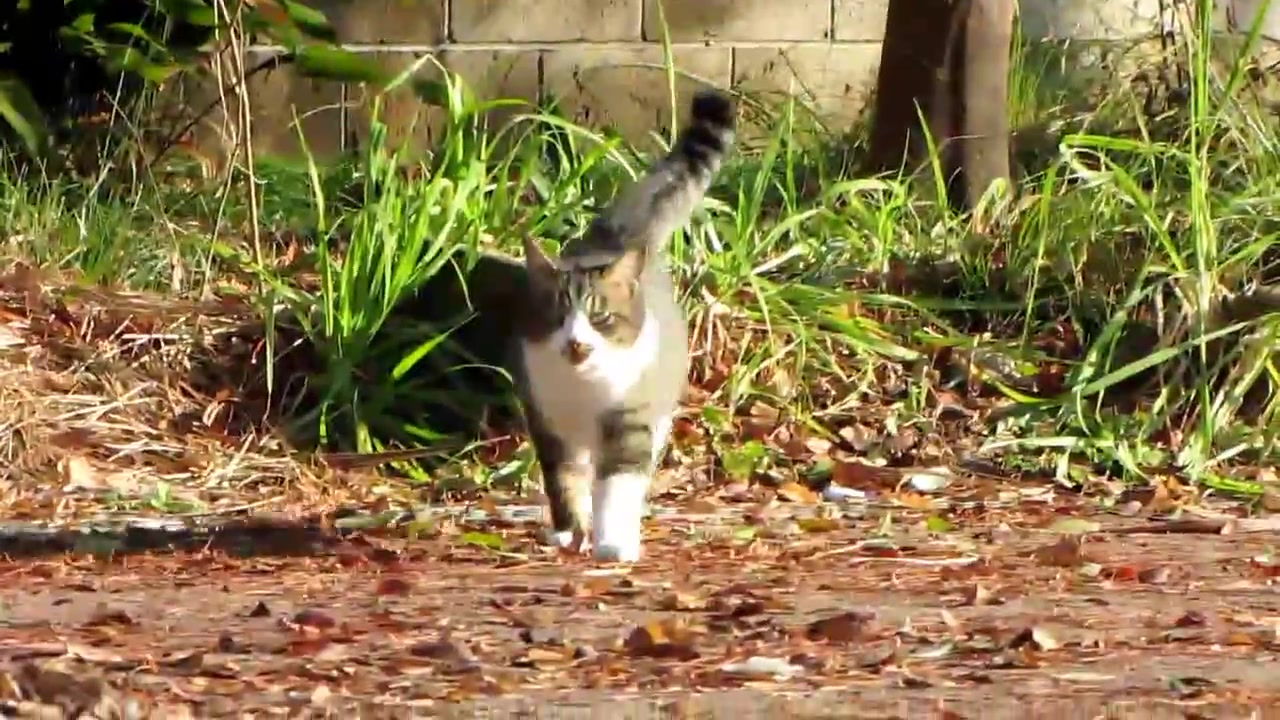cat: (515, 91, 744, 564)
